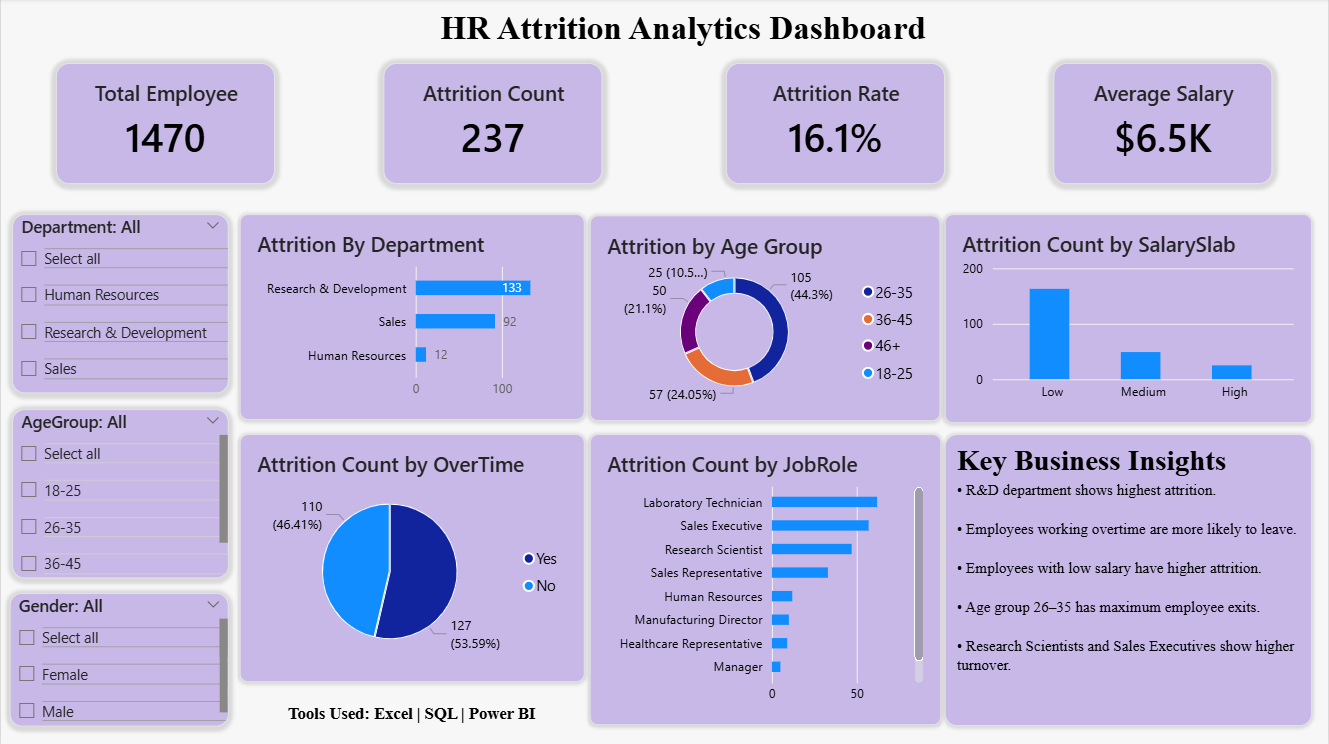

What the dashboard file says about the page in this screenshot:
{"tool":"powerbi","page":{"name":"Page 1","canvas":[1280,720],"ordinal":0},"visuals":[{"type":"card","title":"Total Employee","fields":{"Values":["Cleaned_HR.Total Employees"]},"box":[53.1,62.7,211.1,117],"z":0},{"type":"card","title":"Attrition Count","fields":{"Values":["Cleaned_HR.Attrition Count"]},"box":[369.2,62.7,211.1,117],"z":1000},{"type":"card","title":"Attrition Rate","fields":{"Values":["Cleaned_HR.Attrition Rate"]},"box":[699.7,62.7,211.1,117],"z":2000},{"type":"card","title":"Average Salary","fields":{"Values":["Cleaned_HR.Average Salary"]},"box":[1015.8,62.7,211.1,117],"z":3000},{"type":"clusteredBarChart","title":"Attrition By Department","fields":{"Category":["Cleaned_HR.Department"],"Y":["Cleaned_HR.Attrition Count"]},"box":[230,208.6,332.9,198.6],"z":4000},{"type":"donutChart","title":"Attrition by Age Group","fields":{"Category":["Cleaned_HR.AgeGroup"],"Y":["Cleaned_HR.Attrition Count"]},"box":[568.6,210,338.6,198.6],"z":5000},{"type":"columnChart","fields":{"Category":["Cleaned_HR.SalarySlab"],"Y":["Cleaned_HR.Attrition Count"]},"box":[911.4,208.6,354.3,201.4],"z":6000},{"type":"pieChart","fields":{"Category":["Cleaned_HR.OverTime"],"Y":["Cleaned_HR.Attrition Count"]},"box":[230.4,421,333,238.9],"z":7000},{"type":"clusteredBarChart","fields":{"Category":["Cleaned_HR.JobRole"],"Y":["Cleaned_HR.Attrition Count"]},"box":[568.2,421,339,281.1],"z":8000},{"type":"slicer","fields":{"Values":["Cleaned_HR.Gender"]},"box":[8.6,574.3,211.4,128.6],"z":9000},{"type":"slicer","fields":{"Values":["Cleaned_HR.Department"]},"box":[11.4,208.6,208.6,172.9],"z":10000},{"type":"slicer","fields":{"Values":["Cleaned_HR.AgeGroup"]},"box":[11.4,397.1,208.6,162.9],"z":11000},{"type":"textbox","title":"Key Business Insights","box":[911.4,421.4,354.3,281.4],"z":12000},{"type":"textbox","box":[381.4,10,554.3,52.9],"z":13000},{"type":"textbox","box":[246.1,680.4,300.4,21.7],"z":13001}]}

Visuals, with their boxes in screenshot pixels (x1, y1, x2, y2), scaled from the page's 1280x720 canvas onto the 1329x744 screenshot:
"Total Employee" card: BBox(55, 65, 274, 186)
"Attrition Count" card: BBox(383, 65, 603, 186)
"Attrition Rate" card: BBox(726, 65, 946, 186)
"Average Salary" card: BBox(1055, 65, 1274, 186)
"Attrition By Department" clusteredBarChart: BBox(239, 216, 584, 421)
"Attrition by Age Group" donutChart: BBox(590, 217, 942, 422)
columnChart - Cleaned_HR.SalarySlab x Cleaned_HR.Attrition Count: BBox(946, 216, 1314, 424)
pieChart - Cleaned_HR.OverTime x Cleaned_HR.Attrition Count: BBox(239, 435, 585, 682)
clusteredBarChart - Cleaned_HR.JobRole x Cleaned_HR.Attrition Count: BBox(590, 435, 942, 726)
slicer - Cleaned_HR.Gender: BBox(9, 593, 228, 726)
slicer - Cleaned_HR.Department: BBox(12, 216, 228, 394)
slicer - Cleaned_HR.AgeGroup: BBox(12, 410, 228, 579)
"Key Business Insights" textbox: BBox(946, 435, 1314, 726)
textbox: BBox(396, 10, 972, 65)
textbox: BBox(256, 703, 567, 726)
